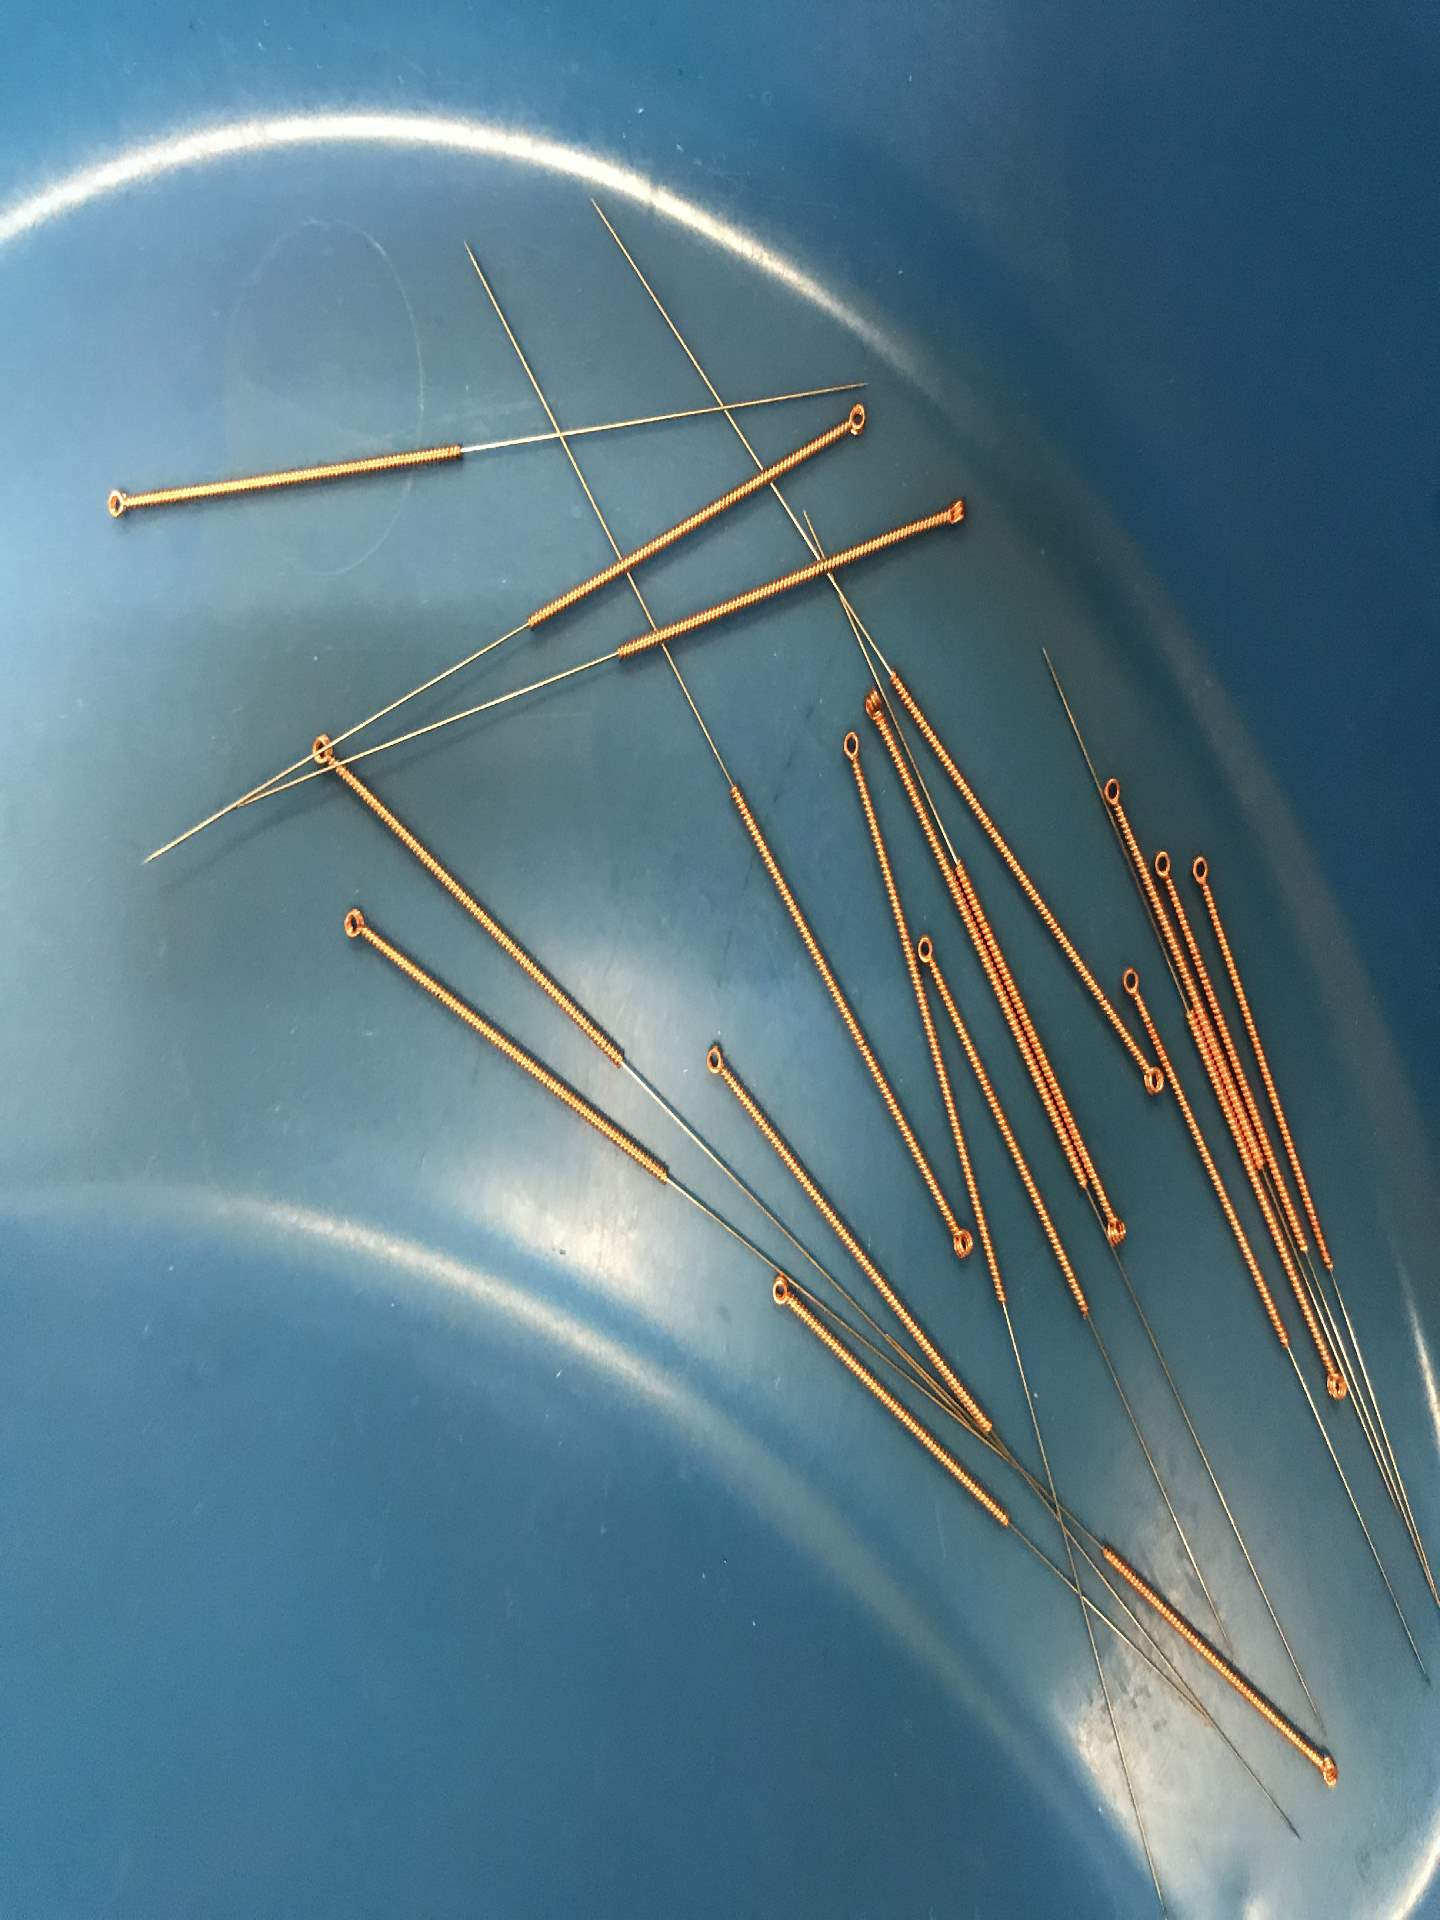needle: (333, 900, 380, 949), (694, 1036, 734, 1089), (97, 481, 139, 528), (835, 398, 876, 444), (1098, 1206, 1137, 1255), (942, 1215, 977, 1268), (1305, 1748, 1346, 1791), (833, 721, 868, 771), (1094, 770, 1128, 819), (304, 729, 343, 773), (1113, 958, 1148, 1007), (933, 490, 970, 535), (1183, 850, 1218, 895), (1321, 1358, 1351, 1407), (764, 1273, 800, 1312), (1134, 1061, 1166, 1101), (859, 683, 886, 729), (917, 924, 942, 971), (1150, 844, 1175, 887)
